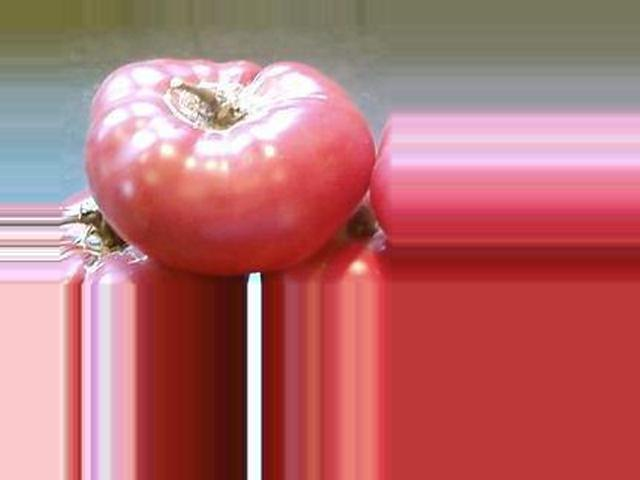tomato: (84, 58, 378, 274)
